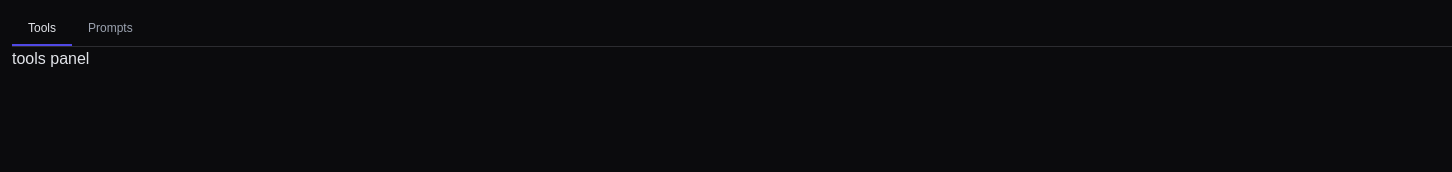
Test case: Tabs › switches on click and with arrow keys
Click the tab "Prompts" at [110, 29], box x1=72 y1=12 x2=149 y2=46
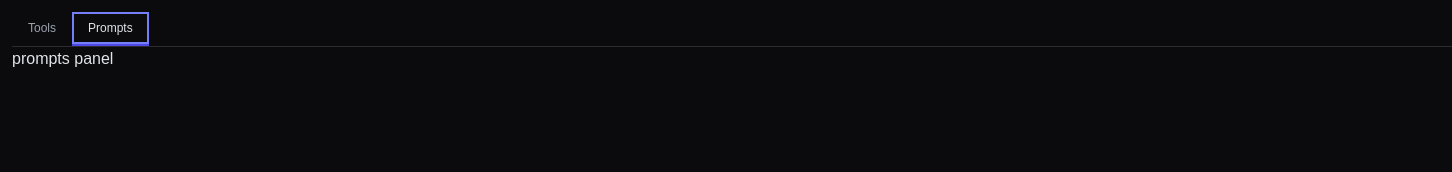
Expected: the panel reads "prompts panel", x1=12 y1=50 x2=113 y2=67
Press Arrowleft
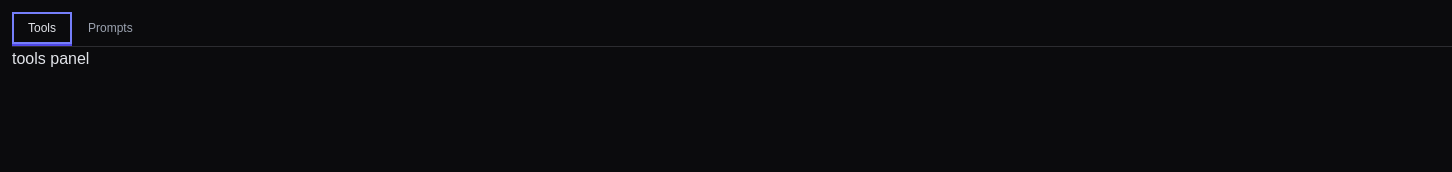
Expected: the tab "Tools" is selected, x1=12 y1=12 x2=72 y2=46
